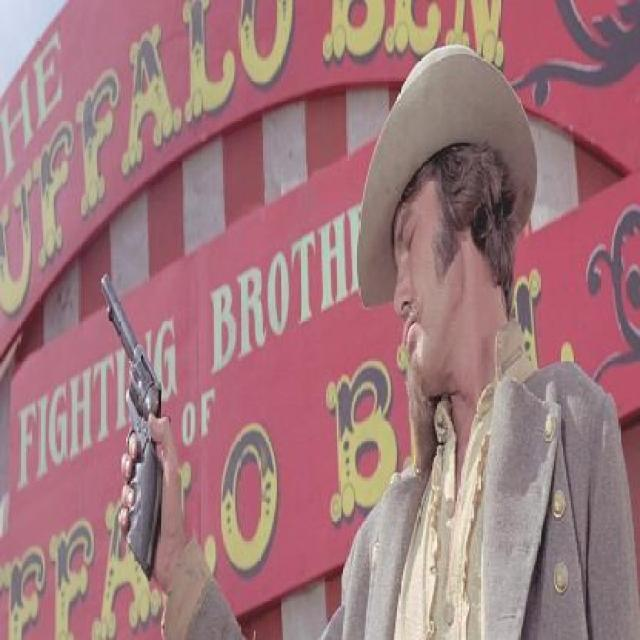gun: (82, 228, 176, 588)
